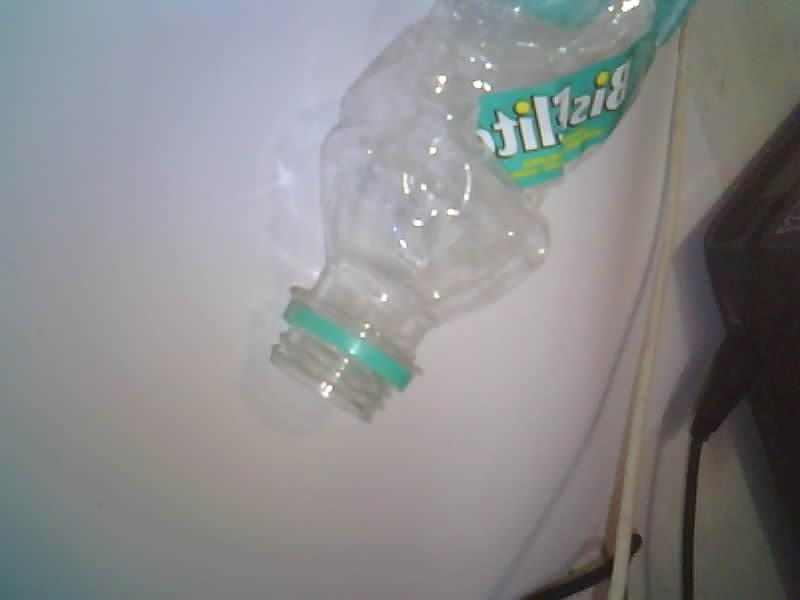non-biodegradable: (272, 0, 659, 419)
